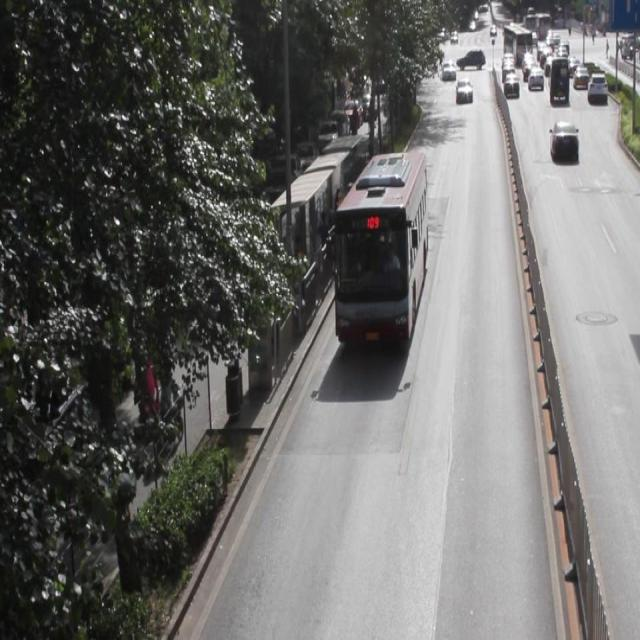car: (548, 119, 578, 154)
van: (336, 149, 426, 344)
